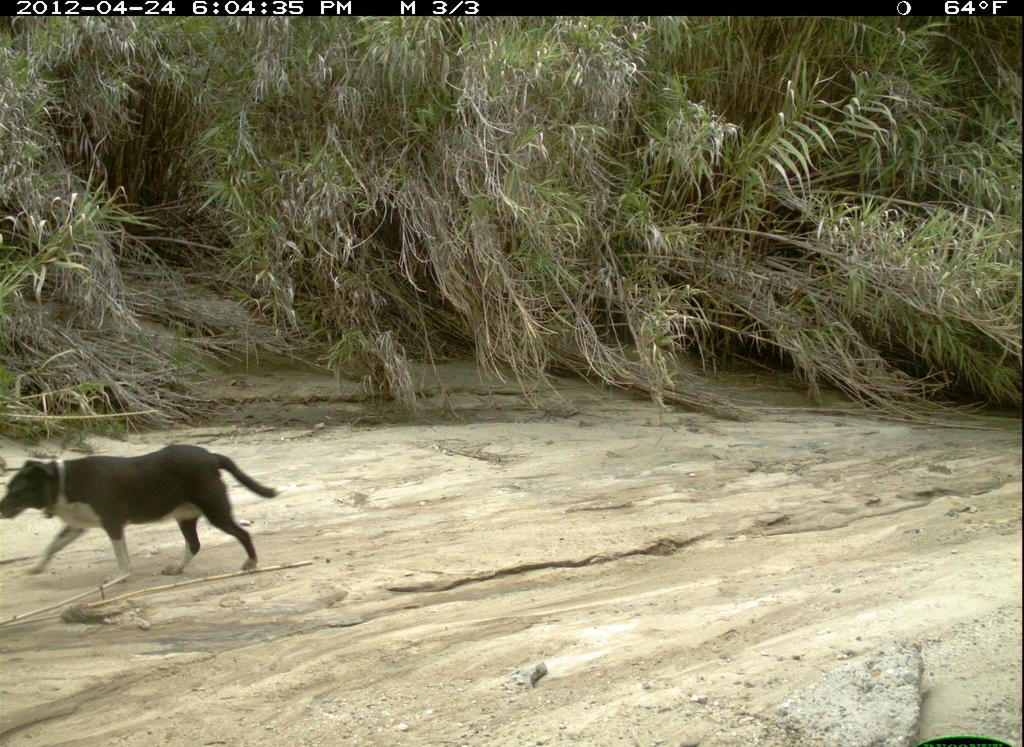dog: (4, 434, 283, 601)
